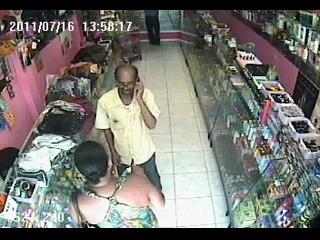Normal: (94, 64, 162, 192), (69, 140, 166, 228), (144, 10, 160, 46)
